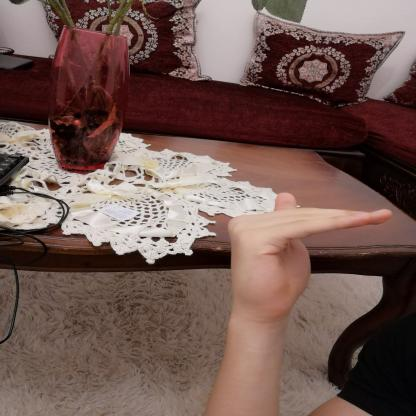KHAA: (215, 184, 402, 324)
